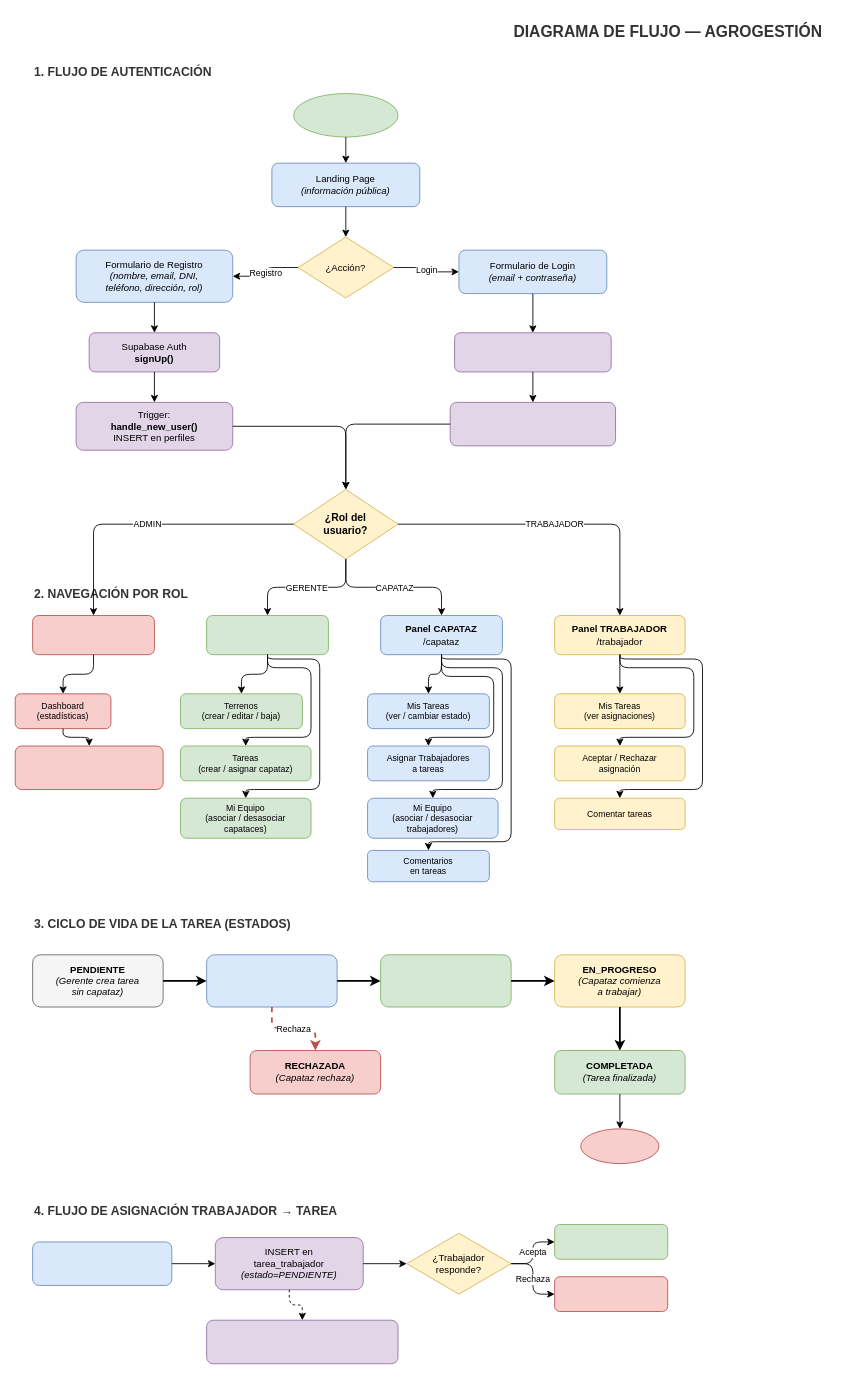
The diagram is 866 pixels wide and 1379 high, and some of its shapes have lost their labels. The shapes that lost their labels are listed below. From the top down, each one's centre as x and y in pixels, then its label:
At (345,115): "INICIO".
At (532,352): "Supabase Auth signInWithPassword()".
At (532,424): "Obtener sesión JWT + cargar perfil (get_my_role)".
At (93,635): "Panel ADMIN /admin".
At (267,635): "Panel GERENTE /gerente".
At (88,767): "Gestionar Usuarios (editar / cambiar rol / baja / reactivar)".
At (271,980): "ASIGNADA (Gerente asigna capataz)".
At (445,980): "ACEPTADA (Capataz acepta la tarea)".
At (619,1146): "FIN".
At (611,1241): "Estado → ACEPTADA".
At (102,1263): "Capataz selecciona trabajador y tarea".
At (611,1294): "Estado → RECHAZADA".
At (302,1341): "Trigger: notificar_trabajador_asignado() → INSERT en notificaciones".
